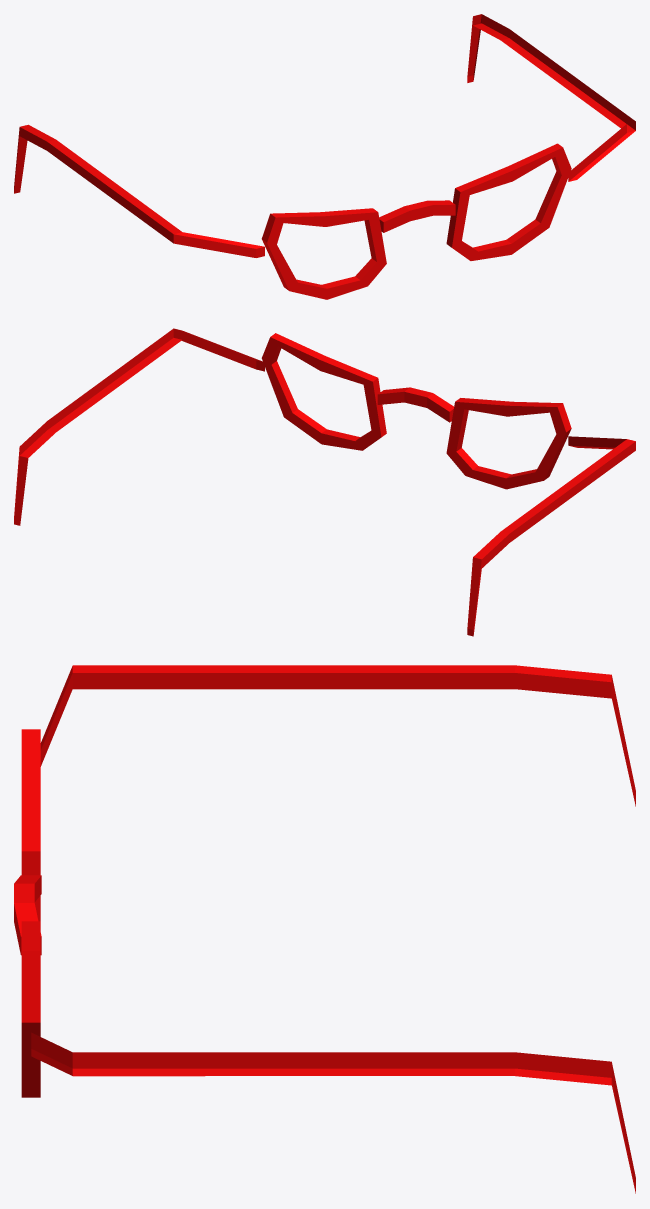
Rendered from glasses_cat_eye_01.glb.
The picture shows the model from 3 angles, top to bottom: view 1: azimuth 30°, elevation 25°; view 2: azimuth 150°, elevation 25°; view 3: azimuth 270°, elevation 25°; orthographic projection. The views are drawn at different scales.
Parts seen in each view (by area): view 1: glasses_cat_eye_01; view 2: glasses_cat_eye_01; view 3: glasses_cat_eye_01.
Part boxes in pixels (bbox=[...]): glasses_cat_eye_01: bbox=[14, 14, 635, 299]; glasses_cat_eye_01: bbox=[14, 328, 635, 636]; glasses_cat_eye_01: bbox=[14, 665, 635, 1193].
Size of the model in its own units: 0.2702 by 0.053 by 0.18.
Materials: 1 (1 with a texture image).
